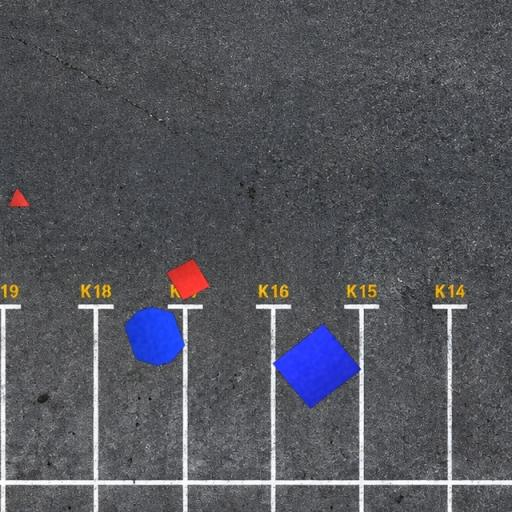BLUE_SQUARE: (272, 323, 362, 410)
RED_SQUARE: (166, 258, 211, 300)
